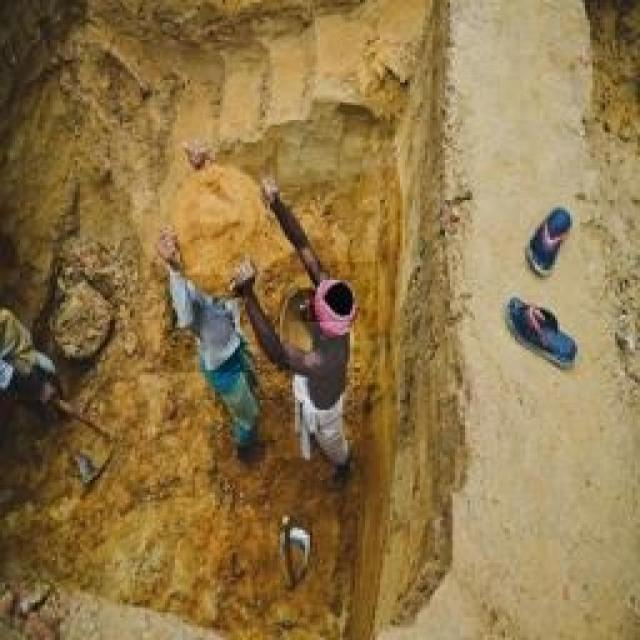Helmet: (164, 274, 243, 372), (290, 323, 354, 413), (309, 262, 378, 342)
